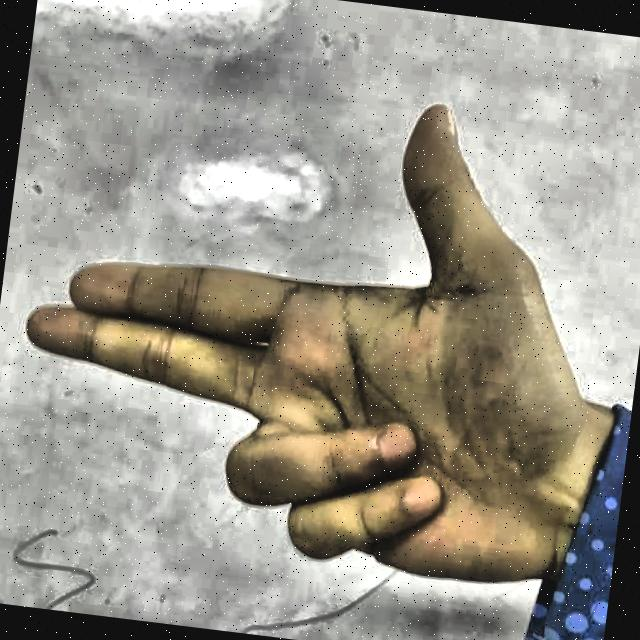Jha: (0, 6, 627, 640)
